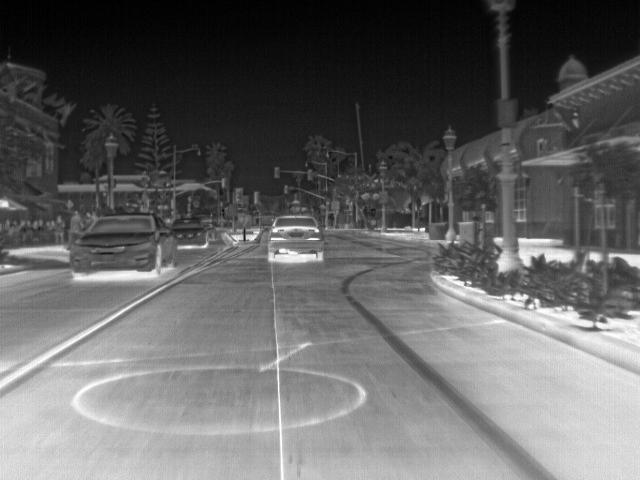car: (68, 212, 175, 274), (268, 212, 323, 258), (171, 215, 207, 249)
person: (51, 214, 66, 246)
